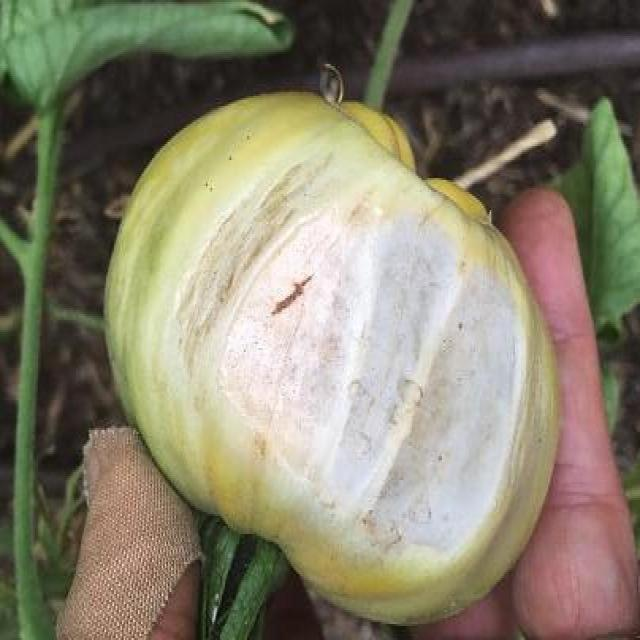Sunscald Fruit: (101, 89, 344, 384)
